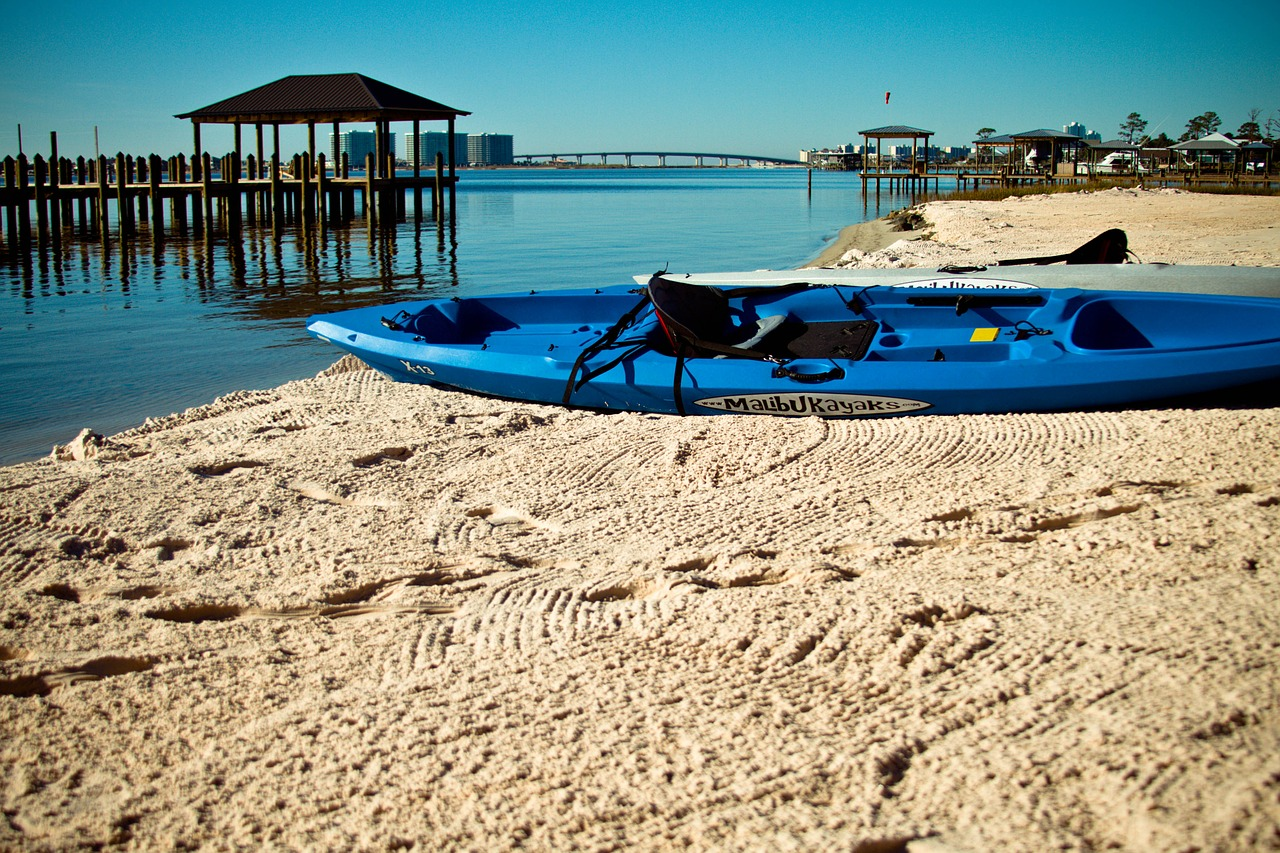kayak: (300, 282, 1279, 425)
